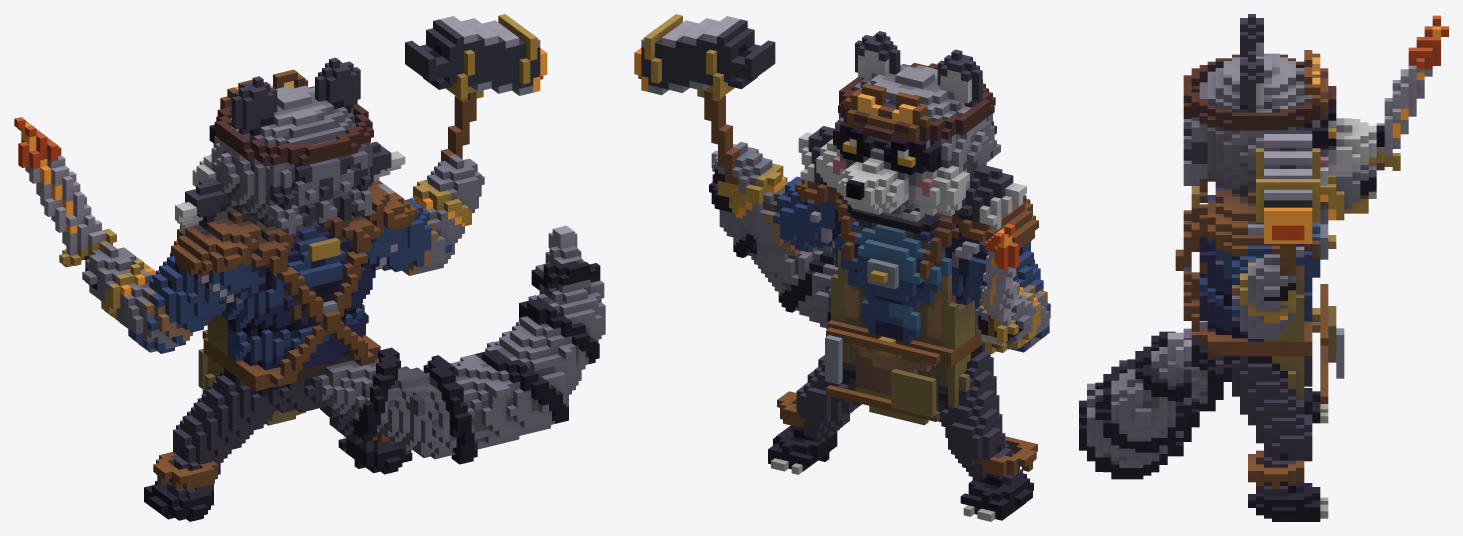
File: Bolt.glb
The picture shows the model from 3 angles, left to right: view 1: azimuth 30°, elevation 25°; view 2: azimuth 150°, elevation 25°; view 3: azimuth 270°, elevation 25°; orthographic projection.
Visible parts, largest first — view 1: Body__Tex, Head__Tex, Tail1__Tex, ArmR2__Tex, Tail2__Tex, ArmL2__Tex, ArmL1__Tex, LegL1__Tex, LegL2__Tex, ArmR1__Tex, LegR2__Tex, ArmL2__Glow; view 2: Body__Tex, Head__Tex, ArmR2__Tex, LegL2__Tex, ArmL2__Tex, Tail2__Tex, LegR2__Tex, LegL1__Tex, ArmR1__Tex, ArmL1__Tex, LegR1__Tex, Tail1__Tex (+2 smaller); view 3: Head__Tex, Body__Tex, Tail2__Tex, ArmR2__Tex, ArmL2__Tex, LegR2__Tex, LegR1__Tex, Tail1__Tex, ArmR1__Tex, ArmR2__Glow, LegL2__Tex, ArmL2__Glow.
Part boxes in pixels (bbox=[...]): Body__Tex: bbox=[171, 180, 417, 425]; Head__Tex: bbox=[175, 57, 405, 234]; Tail1__Tex: bbox=[318, 346, 524, 464]; ArmR2__Tex: bbox=[405, 14, 543, 274]; Tail2__Tex: bbox=[474, 225, 605, 436]; ArmL2__Tex: bbox=[14, 117, 178, 352]; ArmL1__Tex: bbox=[128, 230, 243, 353]; LegL1__Tex: bbox=[173, 368, 277, 459]; LegL2__Tex: bbox=[144, 424, 223, 521]; ArmR1__Tex: bbox=[375, 183, 451, 275]; LegR2__Tex: bbox=[325, 414, 412, 474]; ArmL2__Glow: bbox=[21, 122, 154, 319]; Body__Tex: bbox=[795, 179, 1038, 425]; Head__Tex: bbox=[798, 31, 1026, 230]; ArmR2__Tex: bbox=[638, 14, 790, 254]; LegL2__Tex: bbox=[948, 420, 1037, 521]; ArmL2__Tex: bbox=[975, 223, 1050, 354]; Tail2__Tex: bbox=[709, 144, 834, 312]; LegR2__Tex: bbox=[768, 386, 849, 474]; LegL1__Tex: bbox=[938, 343, 1002, 446]; ArmR1__Tex: bbox=[766, 176, 840, 256]; ArmL1__Tex: bbox=[952, 237, 1050, 352]; LegR1__Tex: bbox=[796, 355, 861, 426]; Tail1__Tex: bbox=[795, 246, 837, 328]; Head__Tex: bbox=[1183, 14, 1384, 196]; Body__Tex: bbox=[1175, 178, 1344, 403]; Tail2__Tex: bbox=[1079, 332, 1191, 479]; ArmR2__Tex: bbox=[1232, 130, 1320, 338]; ArmL2__Tex: bbox=[1320, 15, 1448, 224]; LegR2__Tex: bbox=[1248, 428, 1328, 521]; LegR1__Tex: bbox=[1223, 356, 1312, 446]; Tail1__Tex: bbox=[1087, 322, 1223, 456]; ArmR1__Tex: bbox=[1215, 222, 1304, 316]; ArmR2__Glow: bbox=[1264, 207, 1312, 319]; LegL2__Tex: bbox=[1304, 368, 1328, 423]; ArmL2__Glow: bbox=[1320, 26, 1440, 220].
Bounding box in the file's own units: 6.4 × 5.9 × 4.6.
